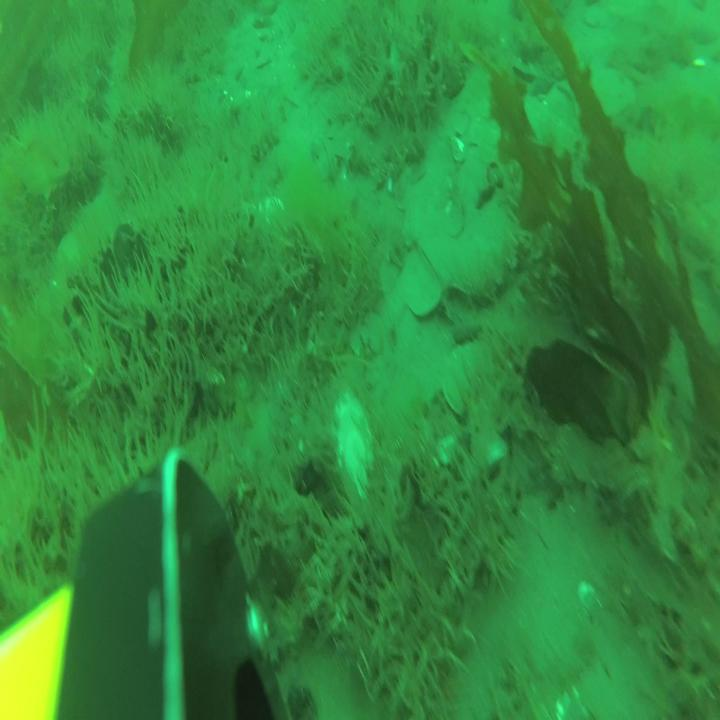scallop: (329, 392, 378, 504), (441, 340, 498, 416), (56, 229, 84, 270), (258, 197, 286, 229), (582, 6, 607, 26)
